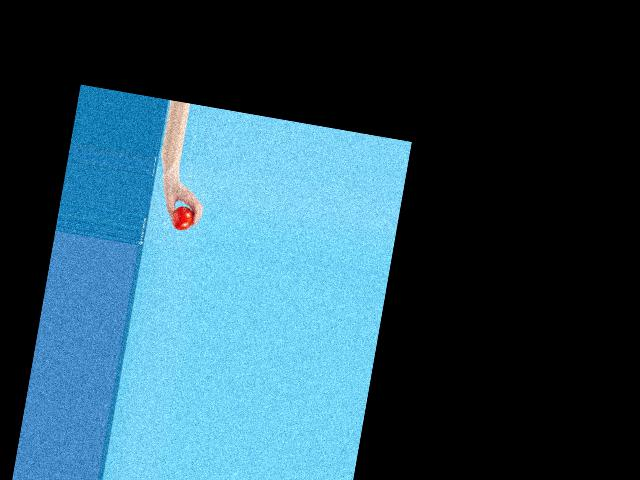tomato: (170, 204, 195, 231)
